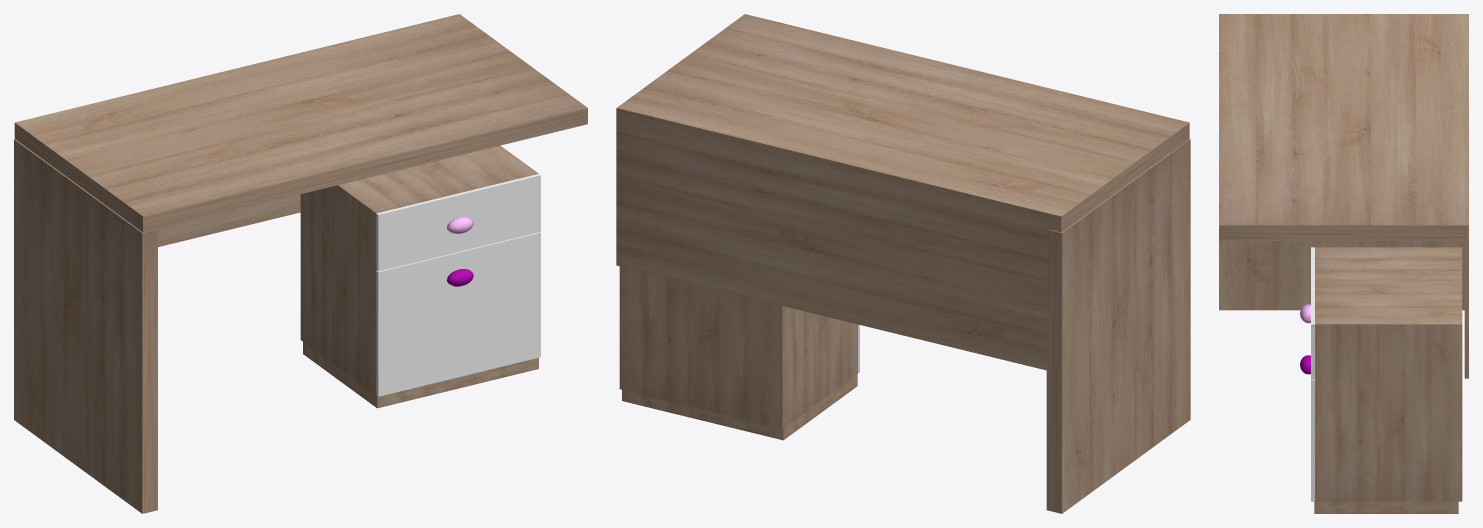
File: Table 1.FBX
3 renders of one model, left to right at view 1: azimuth 30°, elevation 25°; view 2: azimuth 150°, elevation 25°; view 3: azimuth 270°, elevation 25°, orthographic. The views are drawn at different scales.
Parts seen in each view (by area): view 1: Table 1; view 2: Table 1; view 3: Table 1.
Part boxes in pixels (x1=…): Table 1: x1=14, y1=14, x2=587, y2=513; Table 1: x1=616, y1=14, x2=1190, y2=513; Table 1: x1=1219, y1=14, x2=1468, y2=513.
Size of the model in its own units: 802 by 400 by 511.
2 materials, 2 textured.
